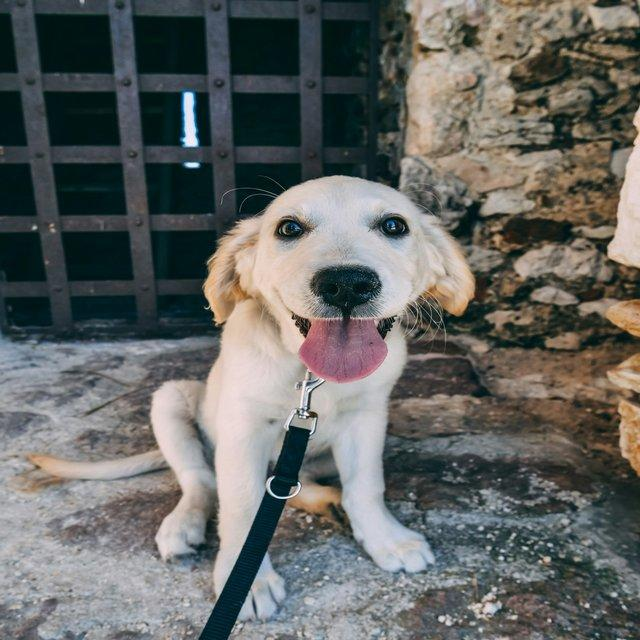retriever: (25, 172, 476, 623)
